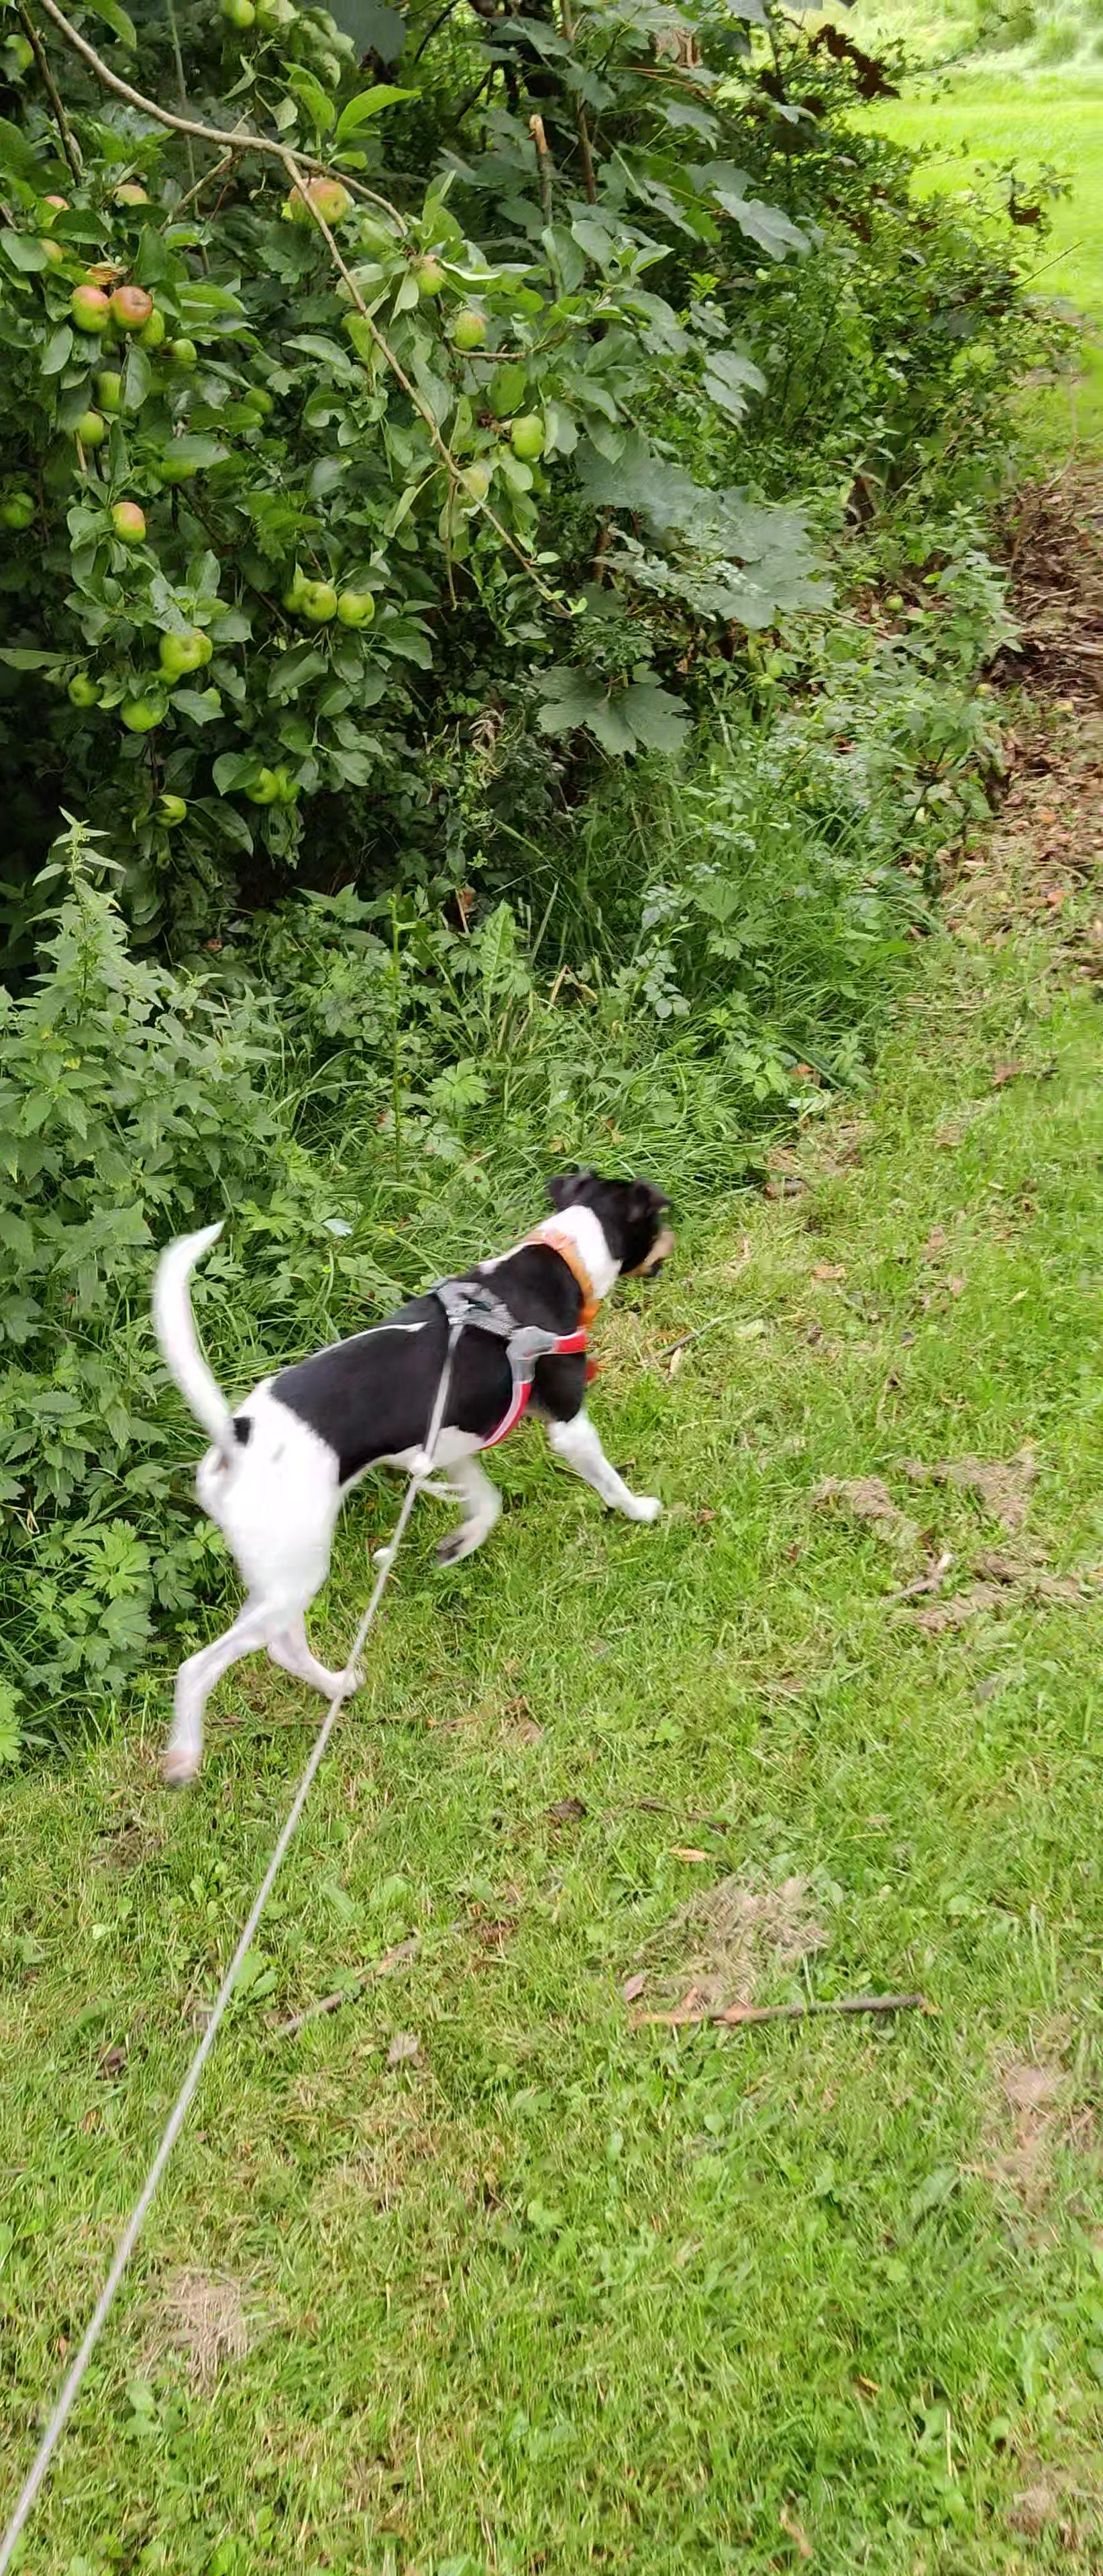Dog: (92, 1132, 702, 1797)
